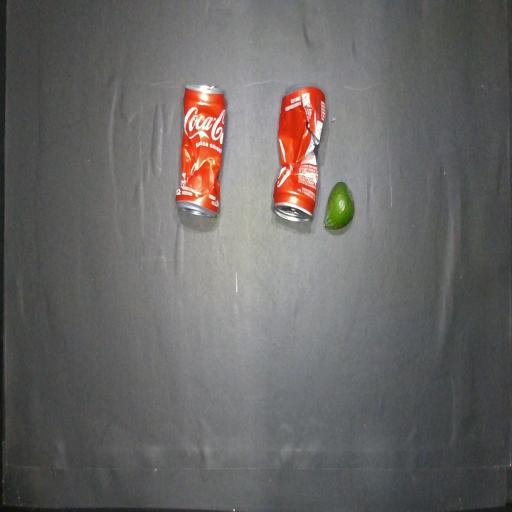higo: (324, 182, 354, 230)
lata_defectuoso: (272, 86, 326, 221), (175, 85, 226, 217)
